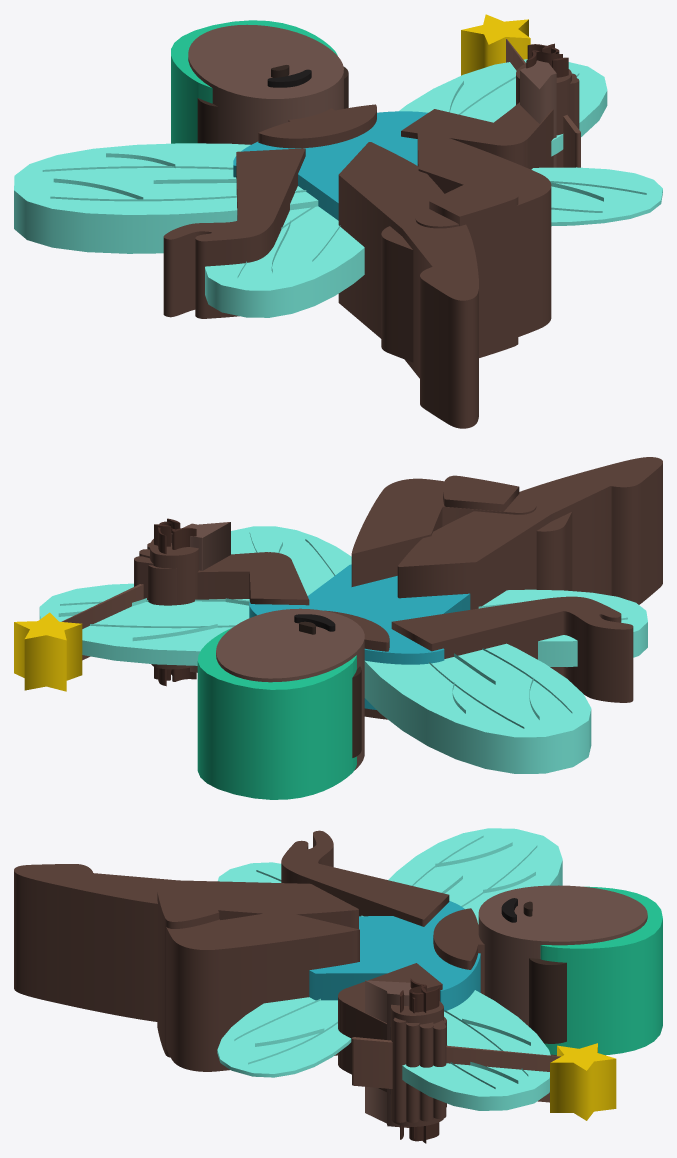
The model's file is emoji_u1f9da_1f3ff_200d_2642.glb.
3 views of the same model, one above another, from view 1: azimuth 30°, elevation 25°; view 2: azimuth 150°, elevation 25°; view 3: azimuth 270°, elevation 25° (orthographic). The views are drawn at different scales.
Parts seen in each view (by area): view 1: emoji_u1f9da_1f3ff_200d_2642; view 2: emoji_u1f9da_1f3ff_200d_2642; view 3: emoji_u1f9da_1f3ff_200d_2642.
Part boxes in pixels (x1=…): emoji_u1f9da_1f3ff_200d_2642: x1=14, y1=14, x2=662, y2=428; emoji_u1f9da_1f3ff_200d_2642: x1=14, y1=457, x2=662, y2=799; emoji_u1f9da_1f3ff_200d_2642: x1=14, y1=828, x2=662, y2=1143.
Bounding box in the file's own units: 0.0309 × 0.0084 × 0.0328.
